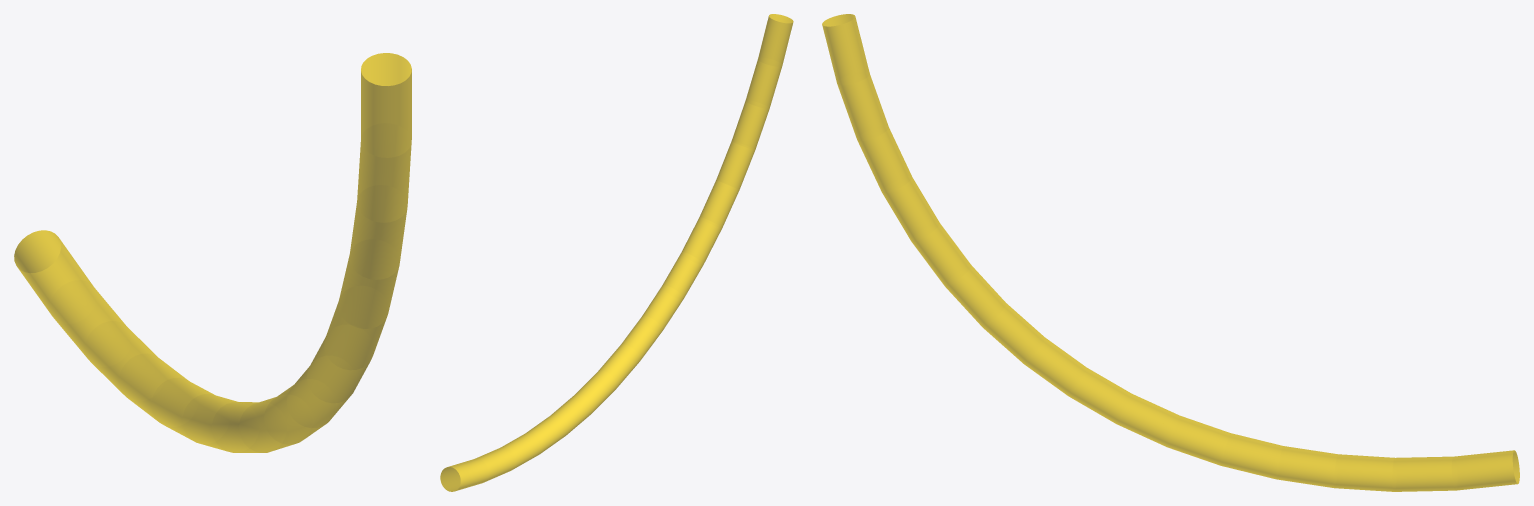
Rendered from Event_27938768_track_45.fbx.
3 views of the same model, side by side, from view 1: azimuth 30°, elevation 25°; view 2: azimuth 150°, elevation 25°; view 3: azimuth 270°, elevation 25° (orthographic). The views are drawn at different scales.
Visible parts, largest first — view 1: Model; view 2: Model; view 3: Model.
Part boxes in pixels (box(x1,y1,x2,y2)): Model: box(14, 53, 411, 452); Model: box(440, 14, 793, 491); Model: box(822, 14, 1519, 491).
Bounding box in the file's own units: 0.1809 × 0.5534 × 0.8145.
